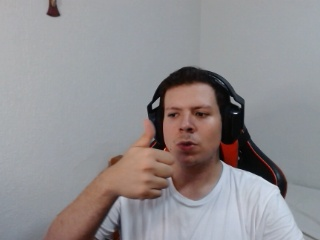Adelante: (109, 115, 178, 207)
